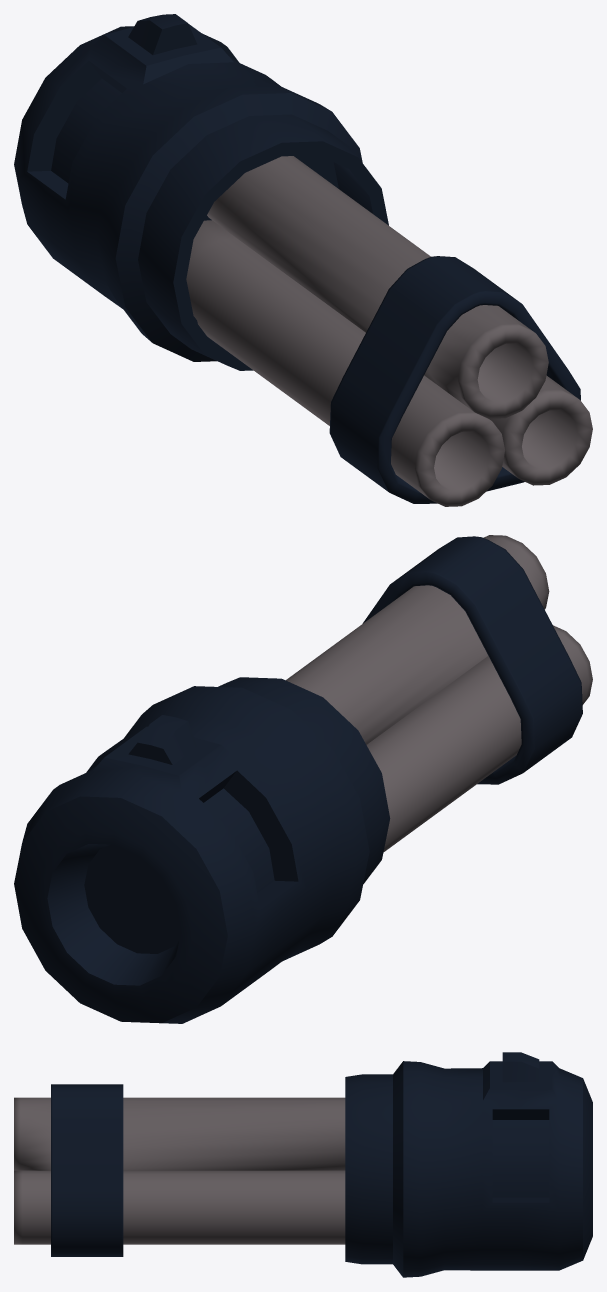
The model's file is canon.fbx.
3 views of the same model, one above another, from view 1: azimuth 30°, elevation 25°; view 2: azimuth 150°, elevation 25°; view 3: azimuth 270°, elevation 25° (orthographic). The views are drawn at different scales.
Parts seen in each view (by area): view 1: Vert.003, Cylinder.002; view 2: Cylinder.002, Vert.003; view 3: Vert.003, Cylinder.002.
Part boxes in pixels (x1,y1,x2,y2): Vert.003: (186,156,592,506); Cylinder.002: (14,14,388,370); Cylinder.002: (14,677,390,1023); Vert.003: (286,535,592,852); Vert.003: (14,1084,345,1256); Cylinder.002: (345,1052,592,1277).
Bounding box in the file's own units: 2 × 2.15 × 5.34.
